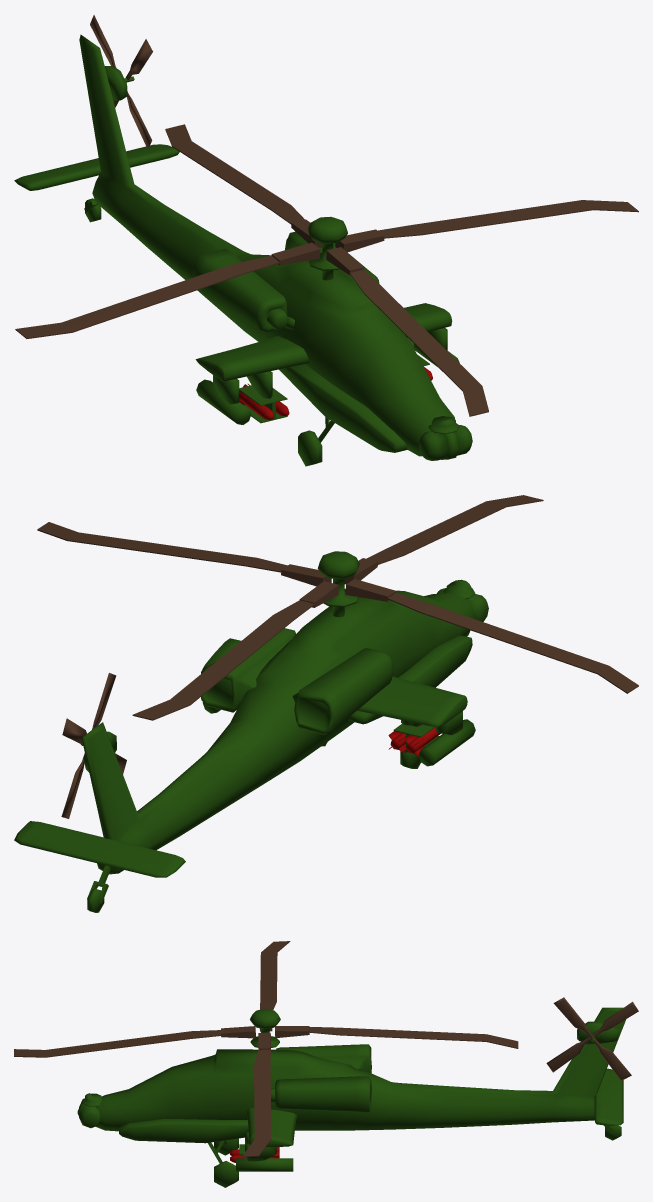
File: lowpolyhelicopter.fbx
3 views of the same model, one above another, from view 1: azimuth 30°, elevation 25°; view 2: azimuth 150°, elevation 25°; view 3: azimuth 270°, elevation 25° (orthographic). The views are drawn at different scales.
Parts seen in each view (by area): view 1: Helicopter_Body, Propellers, Back_Propeller.001; view 2: Helicopter_Body, Propellers, Back_Propeller; view 3: Helicopter_Body, Propellers, Back_Propeller.001, Back_Propeller.
Boxes of the visible parts, x1,y1,x2,y2 form: Helicopter_Body: (14,34,472,466); Propellers: (15,124,638,416); Back_Propeller.001: (90,15,152,149); Helicopter_Body: (14,551,488,912); Propellers: (37,495,638,720); Back_Propeller: (61,673,116,818); Helicopter_Body: (77,1007,625,1187); Propellers: (14,941,518,1157); Back_Propeller.001: (546,1001,638,1072); Back_Propeller: (553,997,631,1080).
Bounding box in the file's own units: 729 × 288 × 902.
